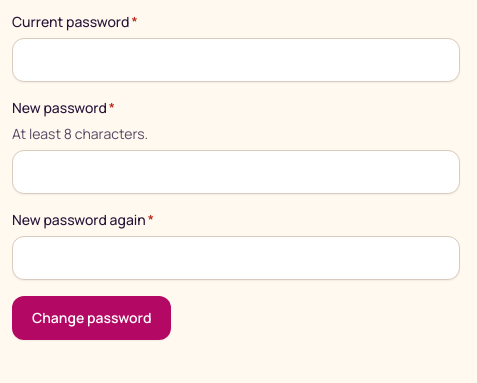
Test: ChangePassword › refuses two different new passwords before sending anything
Type "old-password" into the password field labelled "Current password*" at (236, 60), box [12,38,460,82]
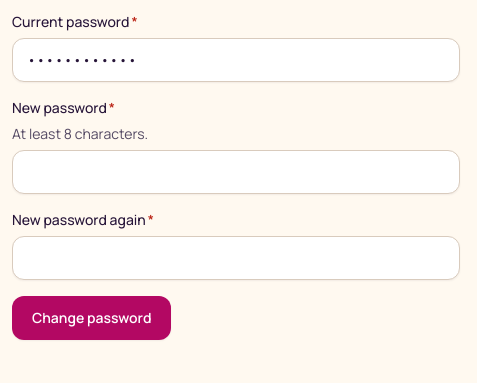
Type "new-password-1" into the password field labelled "New password*" at (236, 172), box [12,150,460,194]
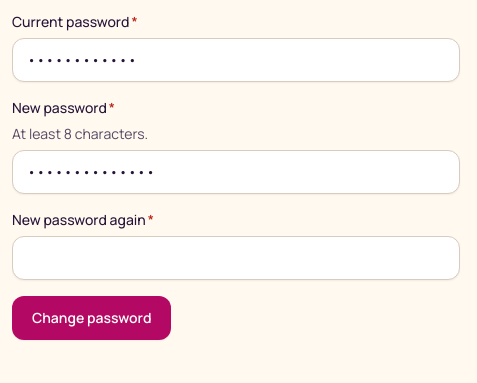
Type "new-password-2" into the password field labelled "New password again*" at (236, 258), box [12,236,460,280]
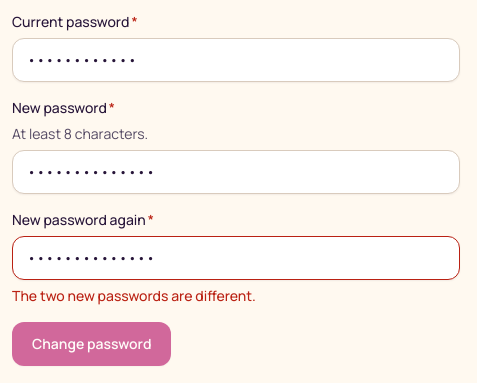
Result: the text "The two new passwords are different." is shown at [12,286,256,305]
Result: the button "Change password" is disabled at [12,322,171,366]
